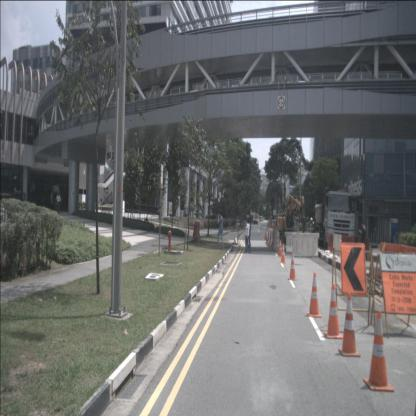human-pedestrian-adult: (358, 221, 366, 264), (216, 212, 224, 249), (245, 218, 252, 254), (246, 218, 251, 252), (56, 192, 62, 214)
movable_object-barrier: (380, 241, 404, 271), (290, 234, 320, 256), (284, 230, 311, 252), (400, 245, 416, 275), (341, 234, 356, 256), (358, 237, 370, 259), (273, 230, 281, 252), (333, 234, 342, 253), (193, 222, 200, 240), (327, 233, 333, 252), (270, 230, 276, 248), (269, 229, 274, 247), (268, 230, 273, 246)
movable_object-trafficcone: (363, 309, 394, 393), (338, 290, 361, 358), (324, 283, 344, 339), (306, 272, 322, 318), (288, 252, 297, 280), (279, 242, 287, 263), (277, 240, 283, 258), (367, 246, 372, 261), (276, 237, 280, 253)
vehicle-truck: (314, 191, 356, 252)
